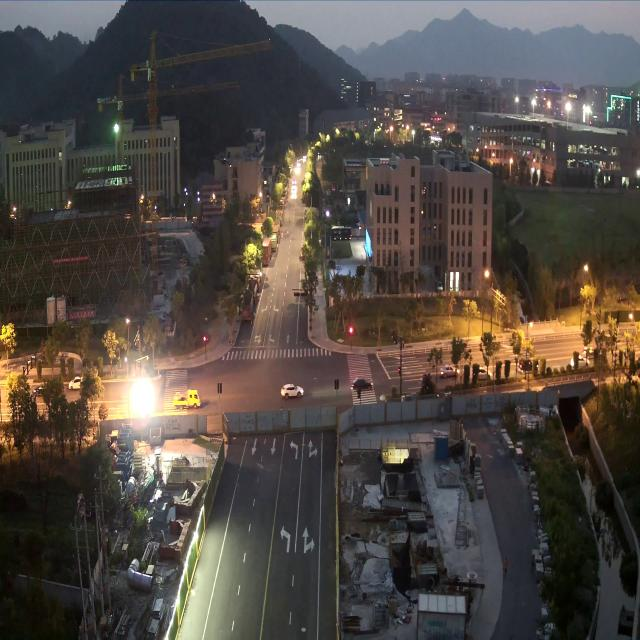drone: (214, 154, 231, 167)
